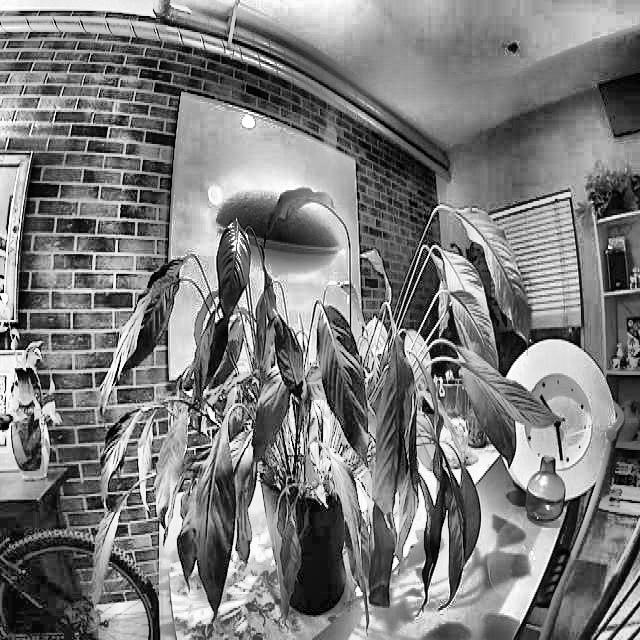plants: (86, 174, 543, 622)
